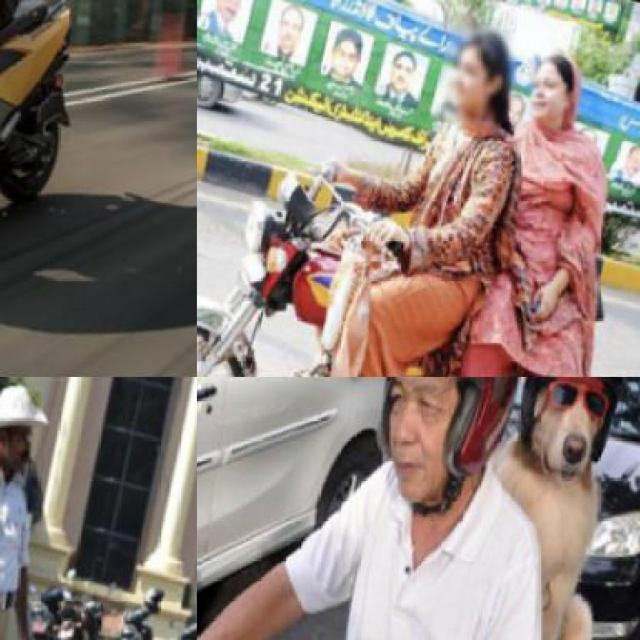With Helmet: (306, 377, 554, 531)
Without Helmet: (424, 11, 525, 137), (512, 39, 592, 139)
